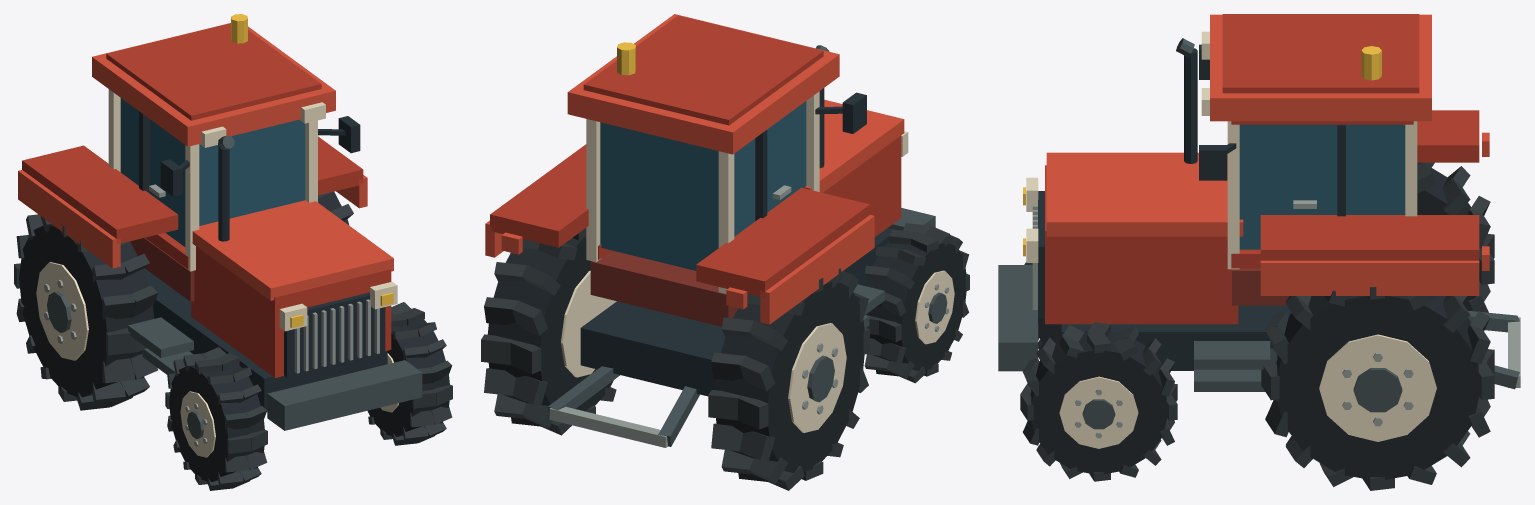
The model's file is tractor.glb.
3 renders of one model, left to right at view 1: azimuth 30°, elevation 25°; view 2: azimuth 150°, elevation 25°; view 3: azimuth 270°, elevation 25°, orthographic. The views are drawn at different scales.
Visible parts, largest first — view 1: body__red, body__red2, body__dark, body__glass, wheel_rear_-1__rubber, body__metal, wheel_rear_-1__tread, body__cream, wheel_front_-1__tread, wheel_front_-1__rubber, wheel_front_1__tread, body__steel (+6 smaller); view 2: body__red, body__glass, body__red2, body__dark, wheel_rear_-1__rubber, wheel_rear_-1__tread, wheel_rear_1__tread, wheel_rear_1__rubber, body__red_dark, wheel_front_-1__rubber, wheel_front_-1__tread, body__cream (+7 smaller); view 3: body__red, body__red2, wheel_rear_1__rubber, body__glass, wheel_front_1__rubber, body__dark, body__metal, wheel_rear_1__tread, wheel_rear_1__cream, wheel_front_1__tread, body__cream, wheel_front_1__cream (+7 smaller).
Boxes of the visible parts, box(x1,y1,x2,y2) form: body__red: box(22, 23, 391, 377); body__red2: box(18, 23, 393, 300); body__dark: box(139, 111, 387, 411); body__glass: box(120, 98, 305, 246); wheel_rear_-1__rubber: box(19, 225, 154, 397); body__metal: box(128, 135, 422, 430); wheel_rear_-1__tread: box(14, 214, 157, 410); body__cream: box(108, 89, 397, 331); wheel_front_-1__tread: box(165, 347, 267, 490); wheel_front_-1__rubber: box(169, 364, 264, 482); wheel_front_1__tread: box(368, 302, 452, 445); body__steel: box(149, 184, 379, 373); body__red: box(490, 15, 901, 297); body__glass: box(600, 101, 806, 270); body__red2: box(485, 14, 904, 324); body__dark: box(580, 88, 893, 396); wheel_rear_-1__rubber: box(715, 282, 864, 472); wheel_rear_-1__tread: box(708, 268, 869, 490); wheel_rear_1__tread: box(481, 228, 616, 435); wheel_rear_1__rubber: box(487, 236, 613, 411); body__red_dark: box(590, 250, 737, 326); wheel_front_-1__rubber: box(865, 242, 966, 371); wheel_front_-1__tread: box(864, 223, 969, 383); body__cream: box(586, 91, 908, 293); body__red: box(1045, 14, 1479, 324); body__red2: box(1046, 14, 1489, 295); wheel_rear_1__rubber: box(1276, 296, 1480, 479); body__glass: box(1239, 124, 1405, 249); wheel_front_1__rubber: box(1030, 330, 1168, 473); body__dark: box(1038, 44, 1345, 370); body__metal: box(998, 38, 1519, 391); wheel_rear_1__tread: box(1261, 287, 1494, 490); wheel_rear_1__cream: box(1319, 334, 1436, 441); wheel_front_1__tread: box(1020, 322, 1177, 481); body__cream: box(1026, 31, 1417, 269); wheel_front_1__cream: box(1059, 376, 1138, 448).
Bounding box in the file's own units: 2.22 × 2.75 × 3.29.
